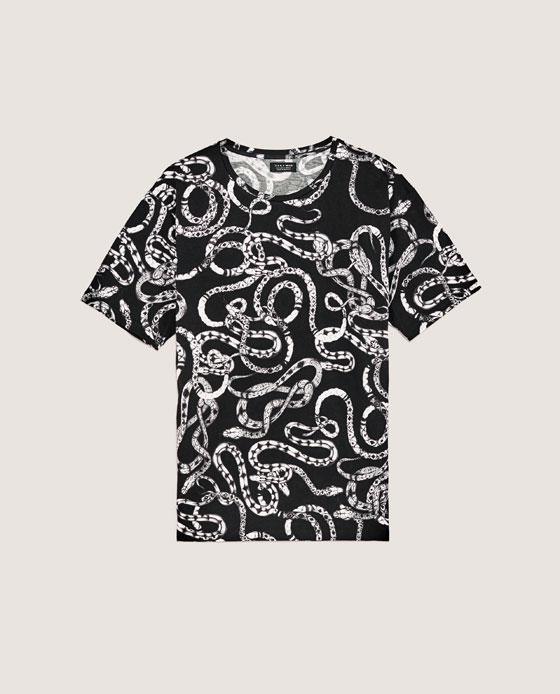teeshirt: (8, 8, 552, 686)
